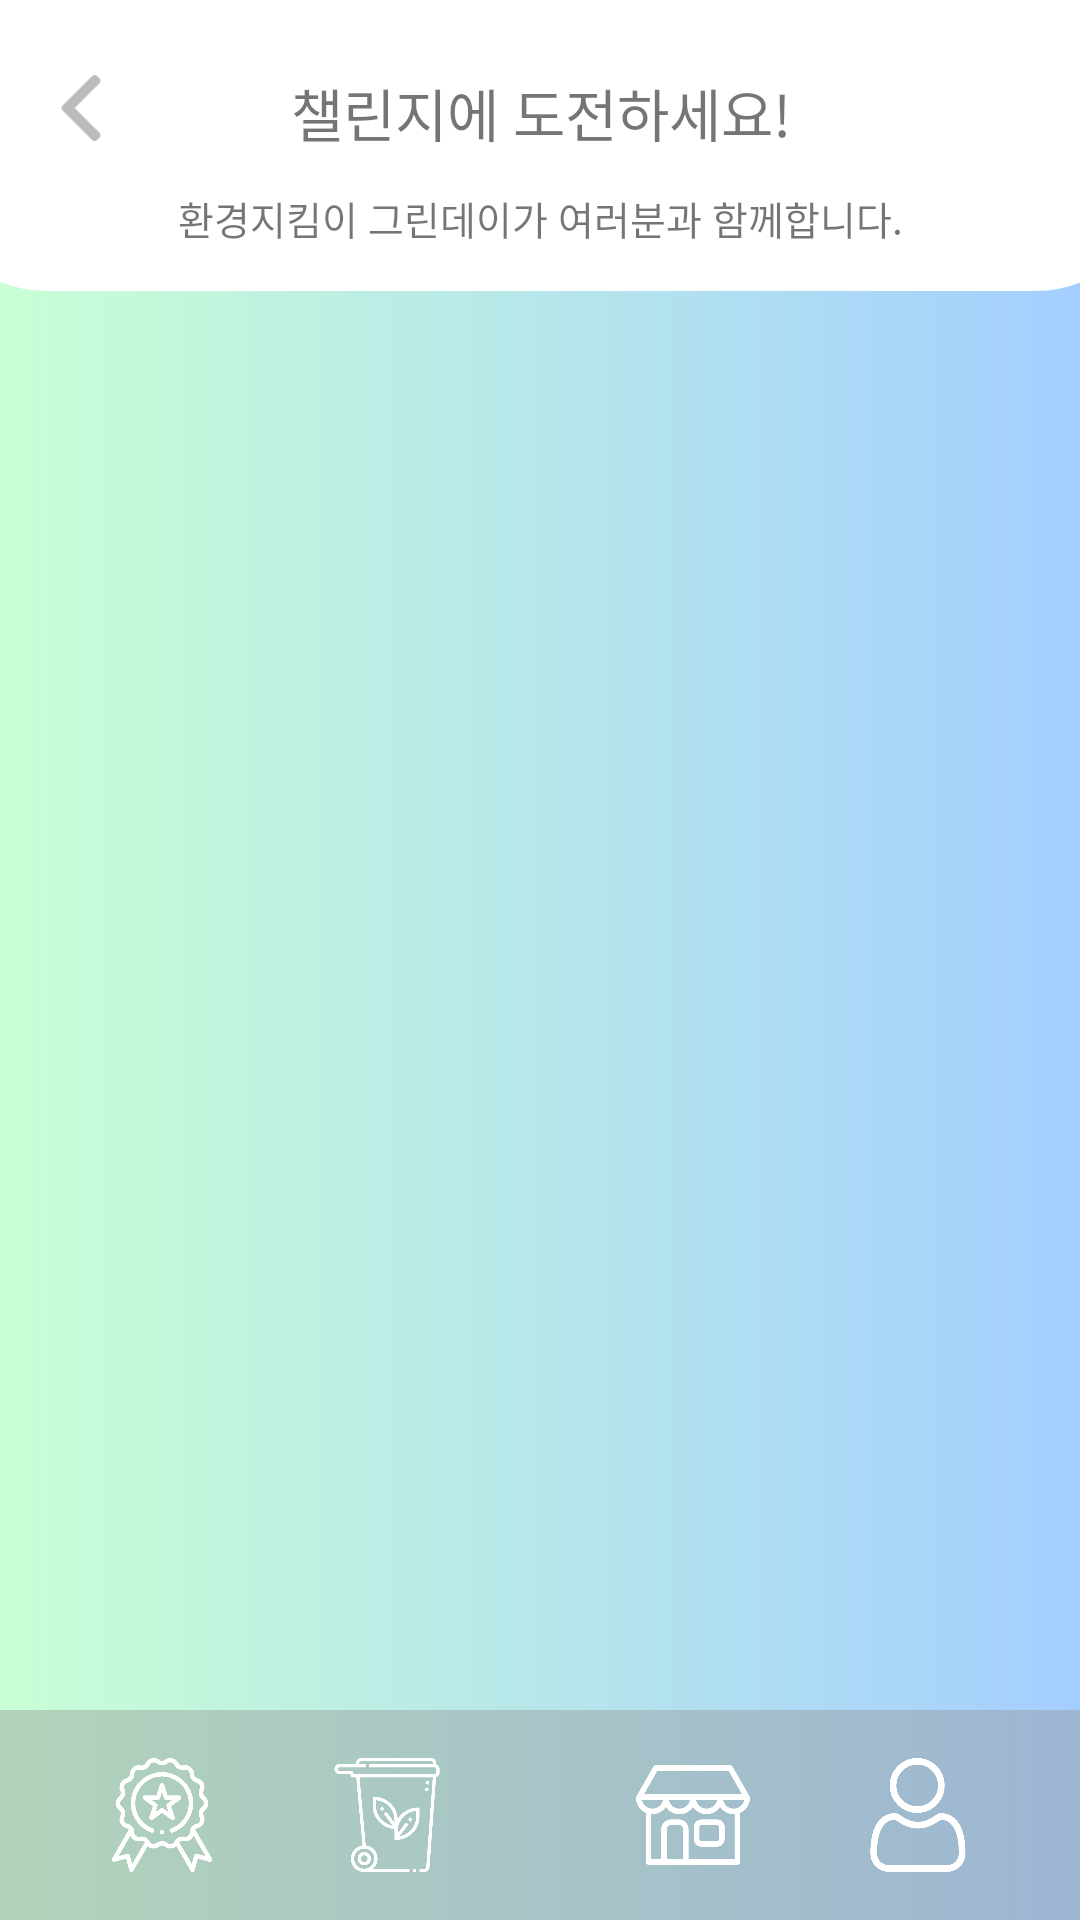

Named icons in this screenshot (1080px×1920px) and their centers, [x,y]:
arrow: [81,108]
no rank: [162,1815]
no shop: [693,1815]
no trash: [387,1815]
no user: [918,1815]
